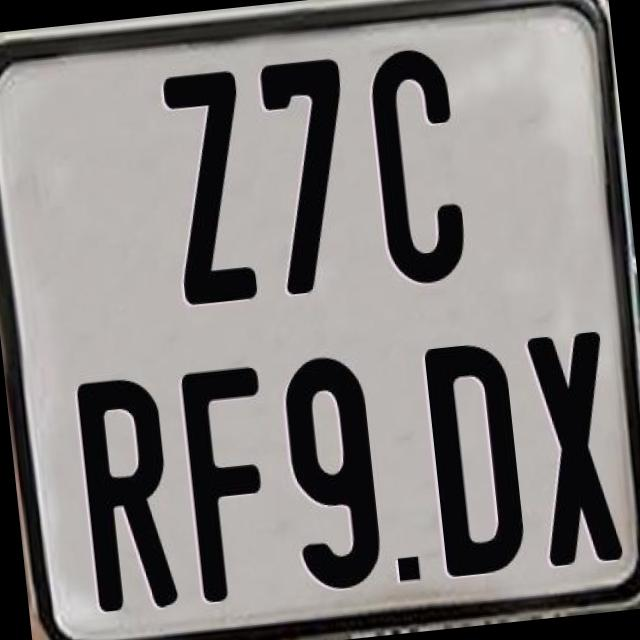7: (257, 56, 368, 302)
9: (278, 350, 387, 590)
C: (364, 46, 474, 295)
D: (421, 341, 529, 582)
F: (176, 362, 278, 601)
R: (74, 376, 184, 614)
X: (526, 328, 631, 568)
Z: (158, 68, 260, 312)
